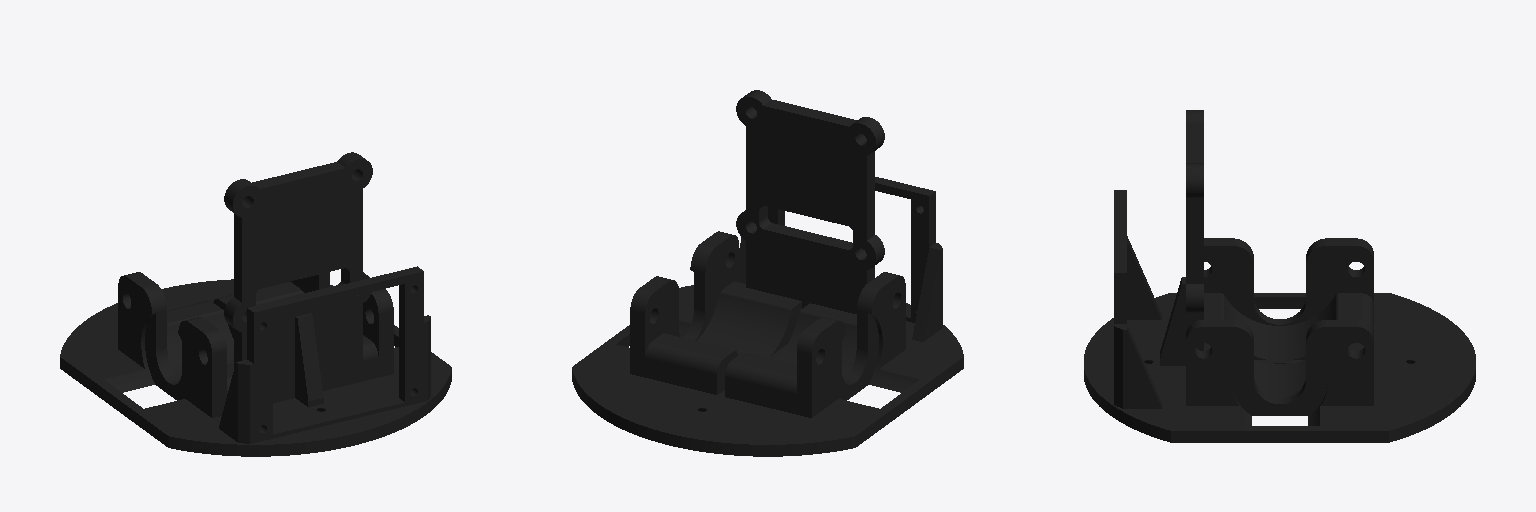
Rendered from chassis.obj.
3 renders of one model, left to right at view 1: azimuth 30°, elevation 25°; view 2: azimuth 150°, elevation 25°; view 3: azimuth 270°, elevation 25°, orthographic.
Visible parts, largest first — view 1: BottomBaseHigh_BottomBaseHigh.001; view 2: BottomBaseHigh_BottomBaseHigh.001; view 3: BottomBaseHigh_BottomBaseHigh.001.
Boxes of the visible parts, x1,y1,x2,y2 form: BottomBaseHigh_BottomBaseHigh.001: [60, 152, 451, 456]; BottomBaseHigh_BottomBaseHigh.001: [572, 90, 963, 456]; BottomBaseHigh_BottomBaseHigh.001: [1084, 110, 1475, 442].
Size of the model in its own units: 0.75 by 0.595 by 0.9.